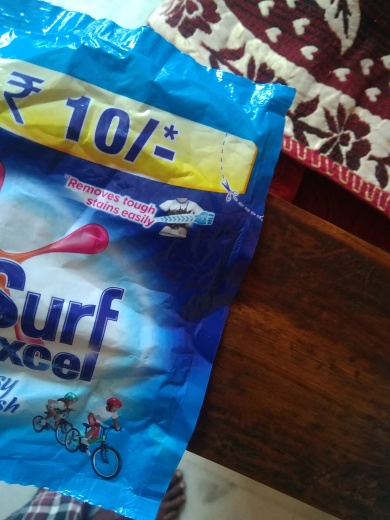surf: (1, 1, 301, 512)
